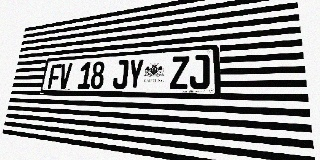1: (77, 62, 93, 89)
8: (90, 61, 106, 89)
F: (47, 64, 62, 89)
J: (189, 54, 209, 90), (112, 60, 129, 89)
V: (58, 63, 72, 89)
Y: (127, 59, 144, 89)
Z: (170, 56, 189, 89)
